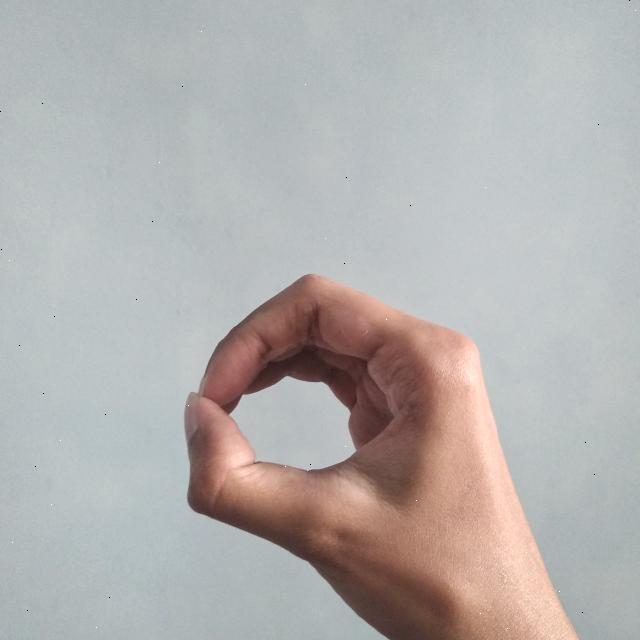O: (175, 262, 583, 640)
